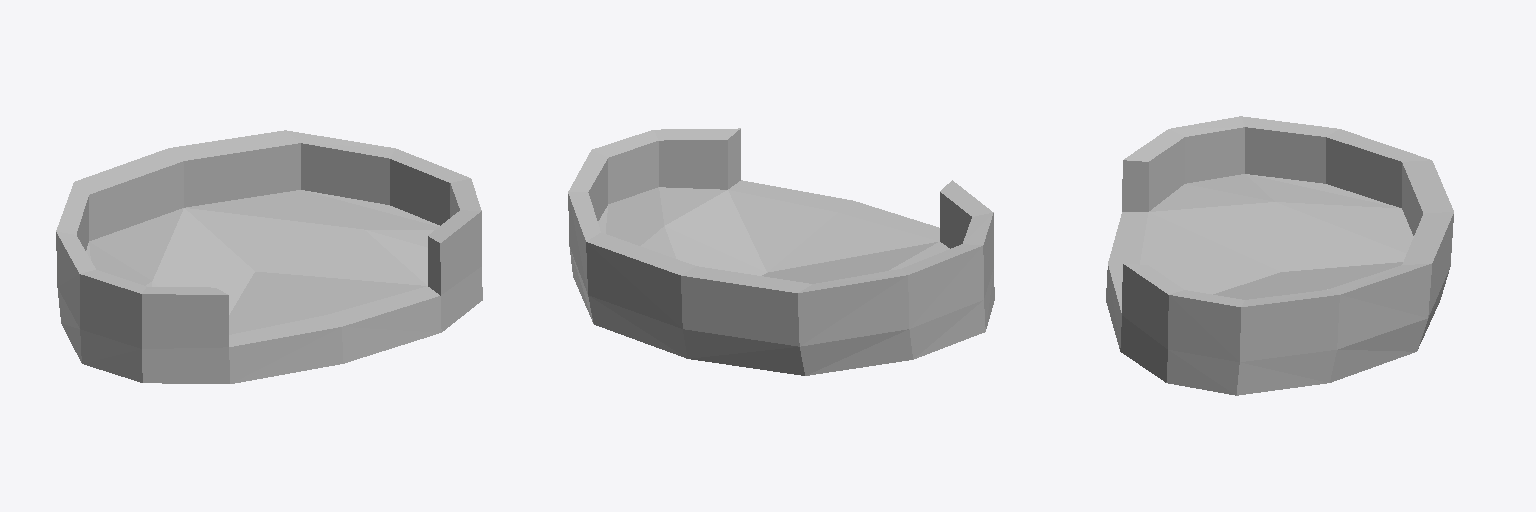
The model's file is Dogbed.obj.
3 renders of one model, left to right at view 1: azimuth 30°, elevation 25°; view 2: azimuth 150°, elevation 25°; view 3: azimuth 270°, elevation 25°, orthographic.
Visible parts, largest first — view 1: Dogbed_Circle.001; view 2: Dogbed_Circle.001; view 3: Dogbed_Circle.001.
Boxes of the visible parts, box(x1,y1,x2,y2) form: Dogbed_Circle.001: box(56, 130, 482, 383); Dogbed_Circle.001: box(568, 128, 994, 375); Dogbed_Circle.001: box(1106, 116, 1453, 395).
Size of the model in its own units: 1.73 by 0.3737 by 1.34.